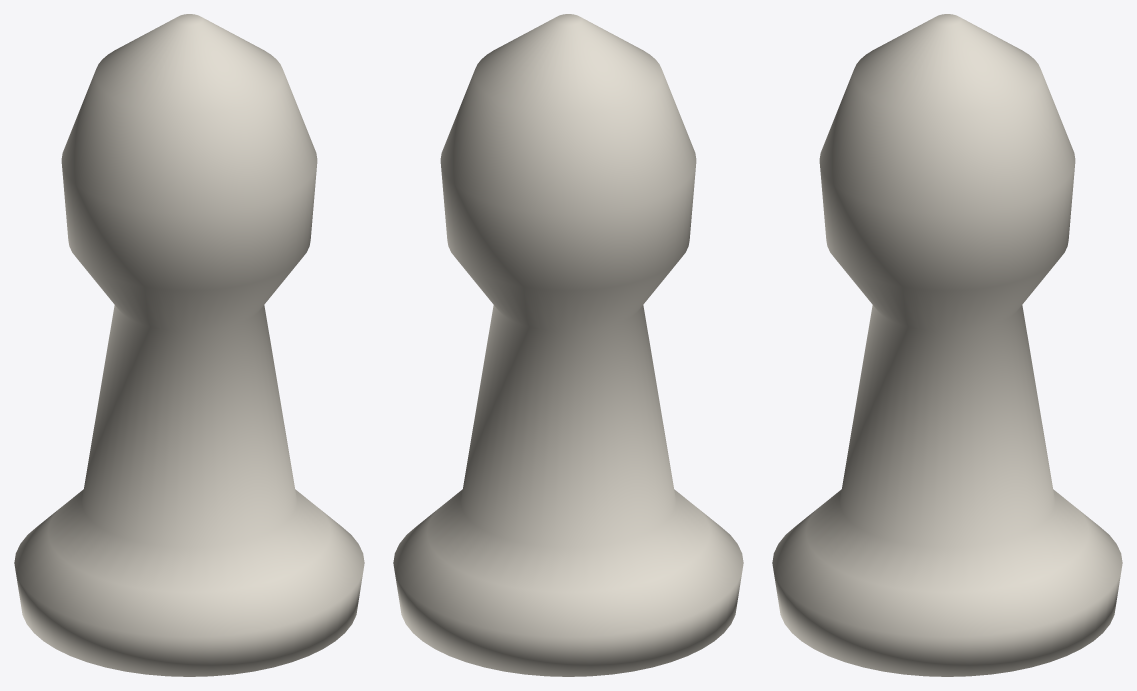
The model's file is white-pawn.glb.
The picture shows the model from 3 angles, left to right: view 1: azimuth 30°, elevation 25°; view 2: azimuth 150°, elevation 25°; view 3: azimuth 270°, elevation 25°; orthographic projection.
Parts seen in each view (by area): view 1: white-pawn; view 2: white-pawn; view 3: white-pawn.
Part boxes in pixels (bbox=[...]): white-pawn: bbox=[14, 14, 364, 676]; white-pawn: bbox=[393, 14, 743, 676]; white-pawn: bbox=[772, 14, 1122, 676].
Size of the model in its own units: 0.052 by 0.096 by 0.052.
Materials: 1 (1 with a texture image).
